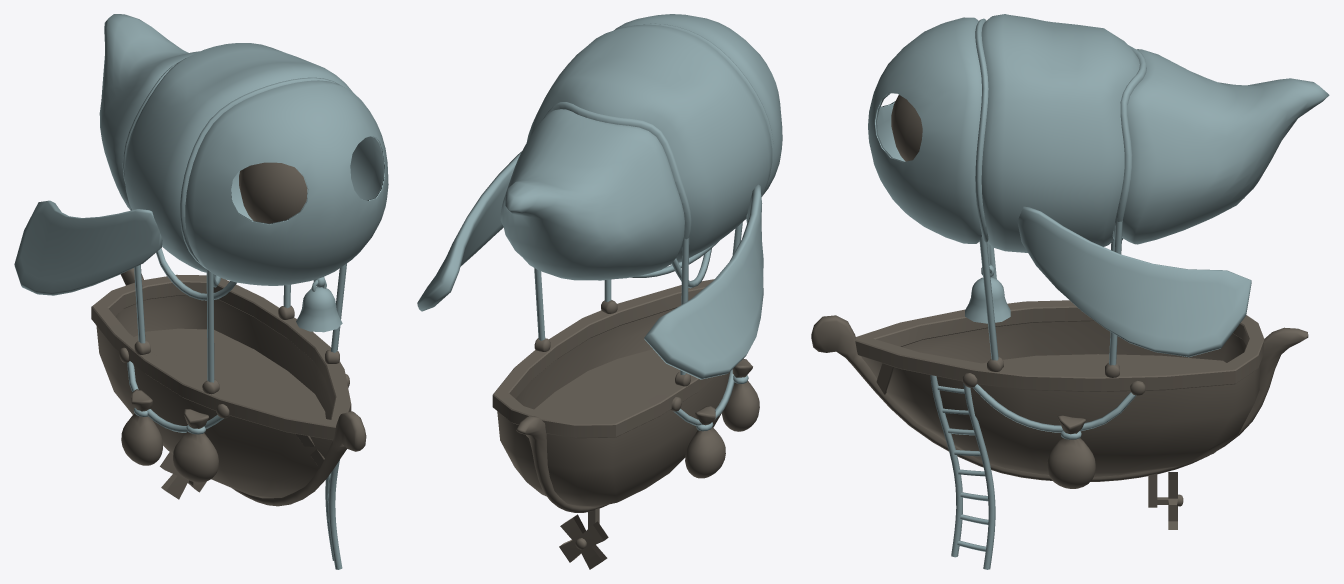
File: Icebell_Patcher_Boat_Model.fbx
3 views of the same model, side by side, from view 1: azimuth 30°, elevation 25°; view 2: azimuth 150°, elevation 25°; view 3: azimuth 270°, elevation 25° (orthographic). The views are drawn at different scales.
Visible parts, largest first — view 1: Balloon, Boat, Soul; view 2: Balloon, Boat; view 3: Balloon, Boat, Soul.
Part boxes in pixels (<box>): Balloon: <box>14,14,388,569</box>; Boat: <box>91,268,366,506</box>; Soul: <box>239,162,307,223</box>; Balloon: <box>417,14,782,431</box>; Boat: <box>492,279,759,569</box>; Balloon: <box>868,14,1329,569</box>; Boat: <box>811,300,1308,529</box>; Soul: <box>891,95,922,161</box>.
Size of the model in its own units: 3.48 by 5.25 by 4.82.
